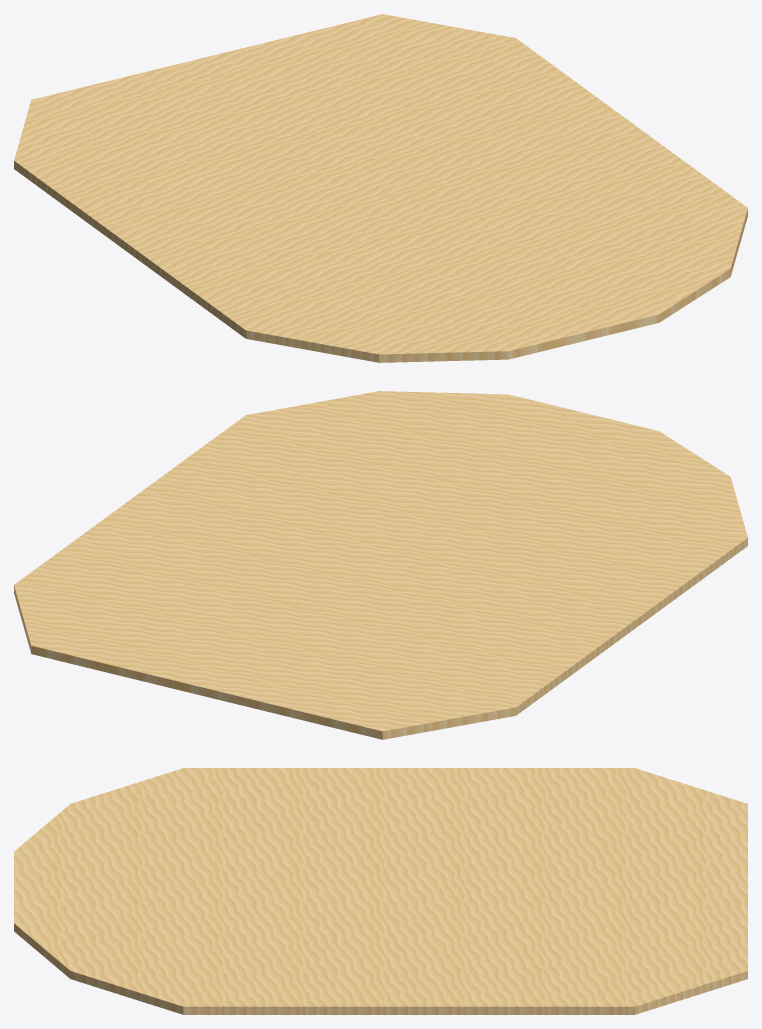
File: seabed-04-CpJC15qZ.glb
3 views of the same model, one above another, from view 1: azimuth 30°, elevation 25°; view 2: azimuth 150°, elevation 25°; view 3: azimuth 270°, elevation 25° (orthographic). The views are drawn at different scales.
Parts seen in each view (by area): view 1: SW_SandShelf; view 2: SW_SandShelf; view 3: SW_SandShelf.
Boxes of the visible parts, bbox=[...] form: SW_SandShelf: bbox=[14, 14, 747, 362]; SW_SandShelf: bbox=[14, 391, 747, 739]; SW_SandShelf: bbox=[14, 768, 747, 1014].
Size of what is drawn, in the model's own units: 20 by 0.32 by 26.
Materials: 1 (1 with a texture image).
